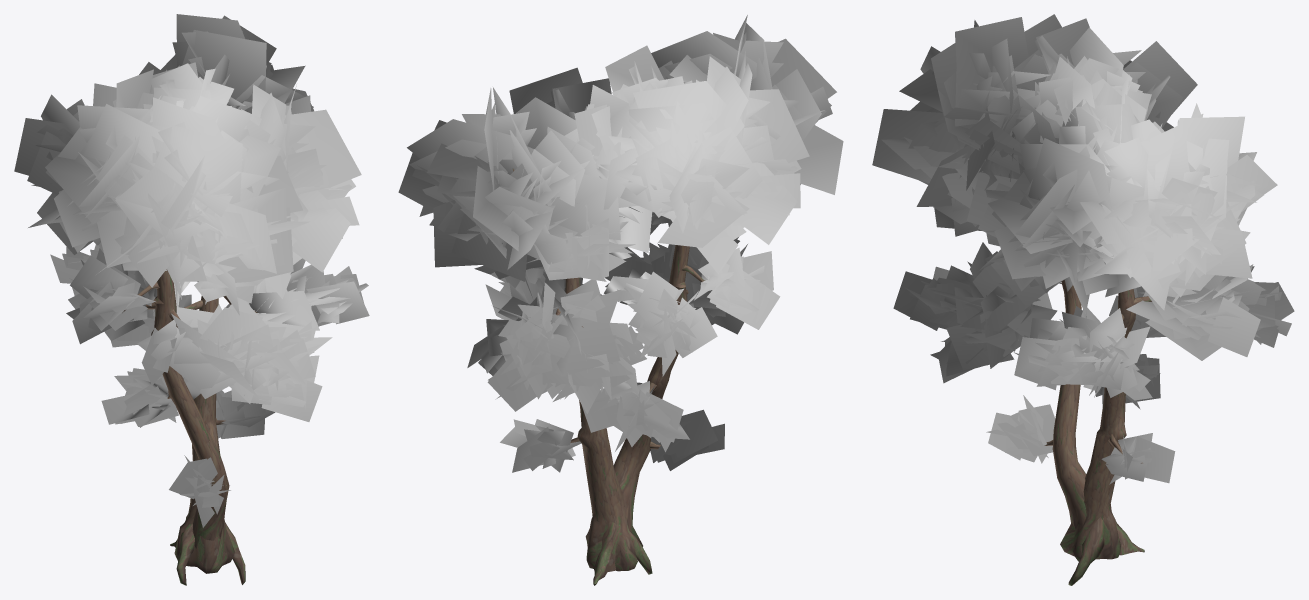
The model's file is SM_EastLands_Conifer_Multi_02.fbx.
The picture shows the model from 3 angles, left to right: view 1: azimuth 30°, elevation 25°; view 2: azimuth 150°, elevation 25°; view 3: azimuth 270°, elevation 25°; orthographic projection. The views are drawn at different scales.
Visible parts, largest first — view 1: SM_EastLands_Conifer_Multi_02_LOD0; view 2: SM_EastLands_Conifer_Multi_02_LOD0; view 3: SM_EastLands_Conifer_Multi_02_LOD0.
Part boxes in pixels (x1,y1,x2,y2): SM_EastLands_Conifer_Multi_02_LOD0: (14, 14, 369, 585); SM_EastLands_Conifer_Multi_02_LOD0: (398, 15, 843, 585); SM_EastLands_Conifer_Multi_02_LOD0: (872, 14, 1294, 585).
Size of the model in its own units: 1348 by 2126 by 1581.
